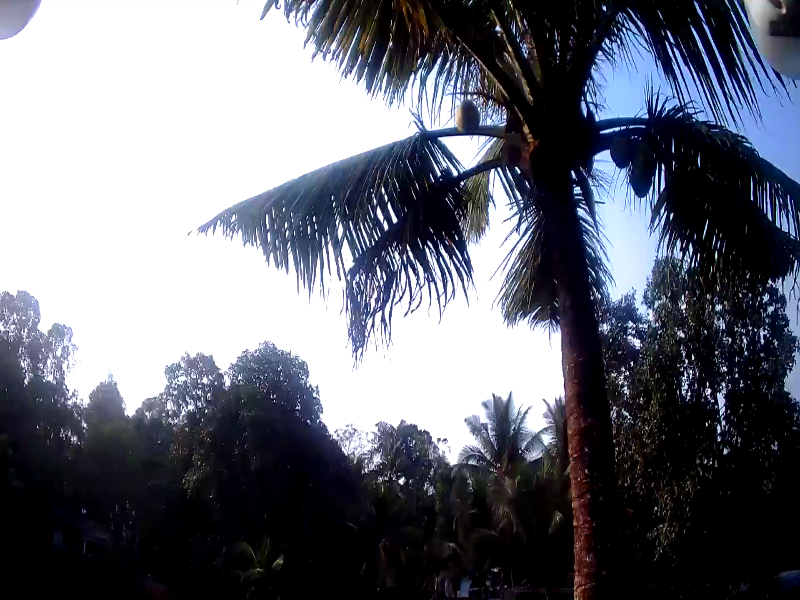coconut: (625, 151, 656, 204), (455, 99, 486, 139), (608, 141, 622, 168)
